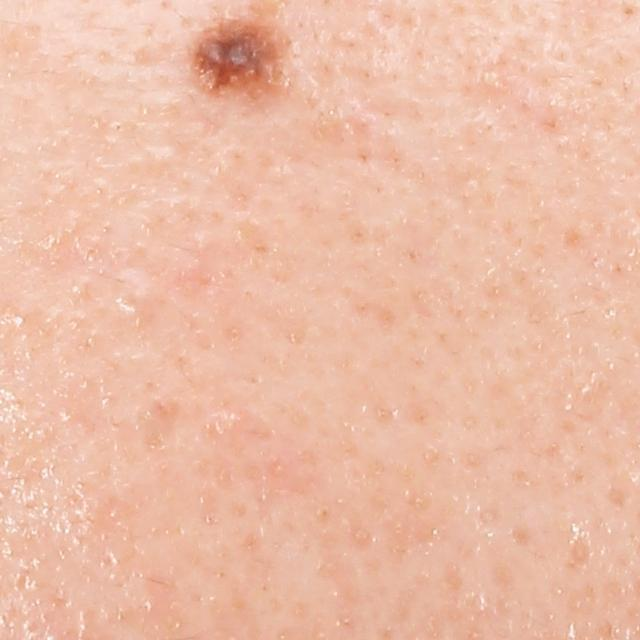comedo: (477, 64, 510, 95)
nevus: (186, 17, 286, 98)
